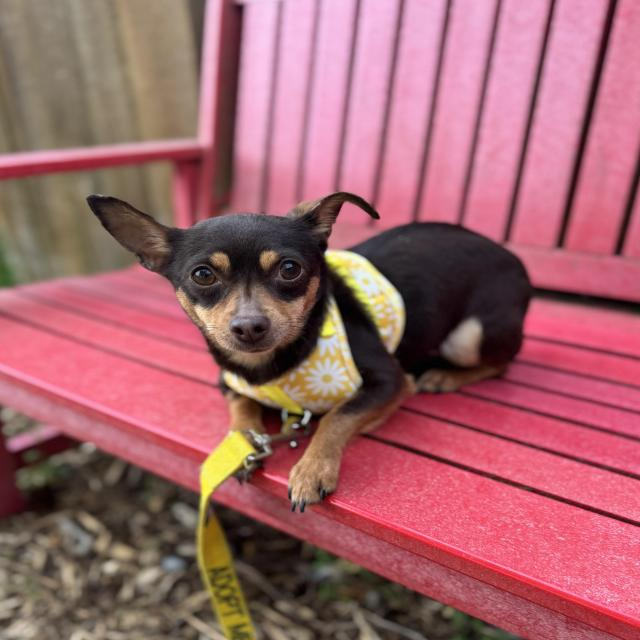chihuahua_dog: (80, 173, 398, 378)
